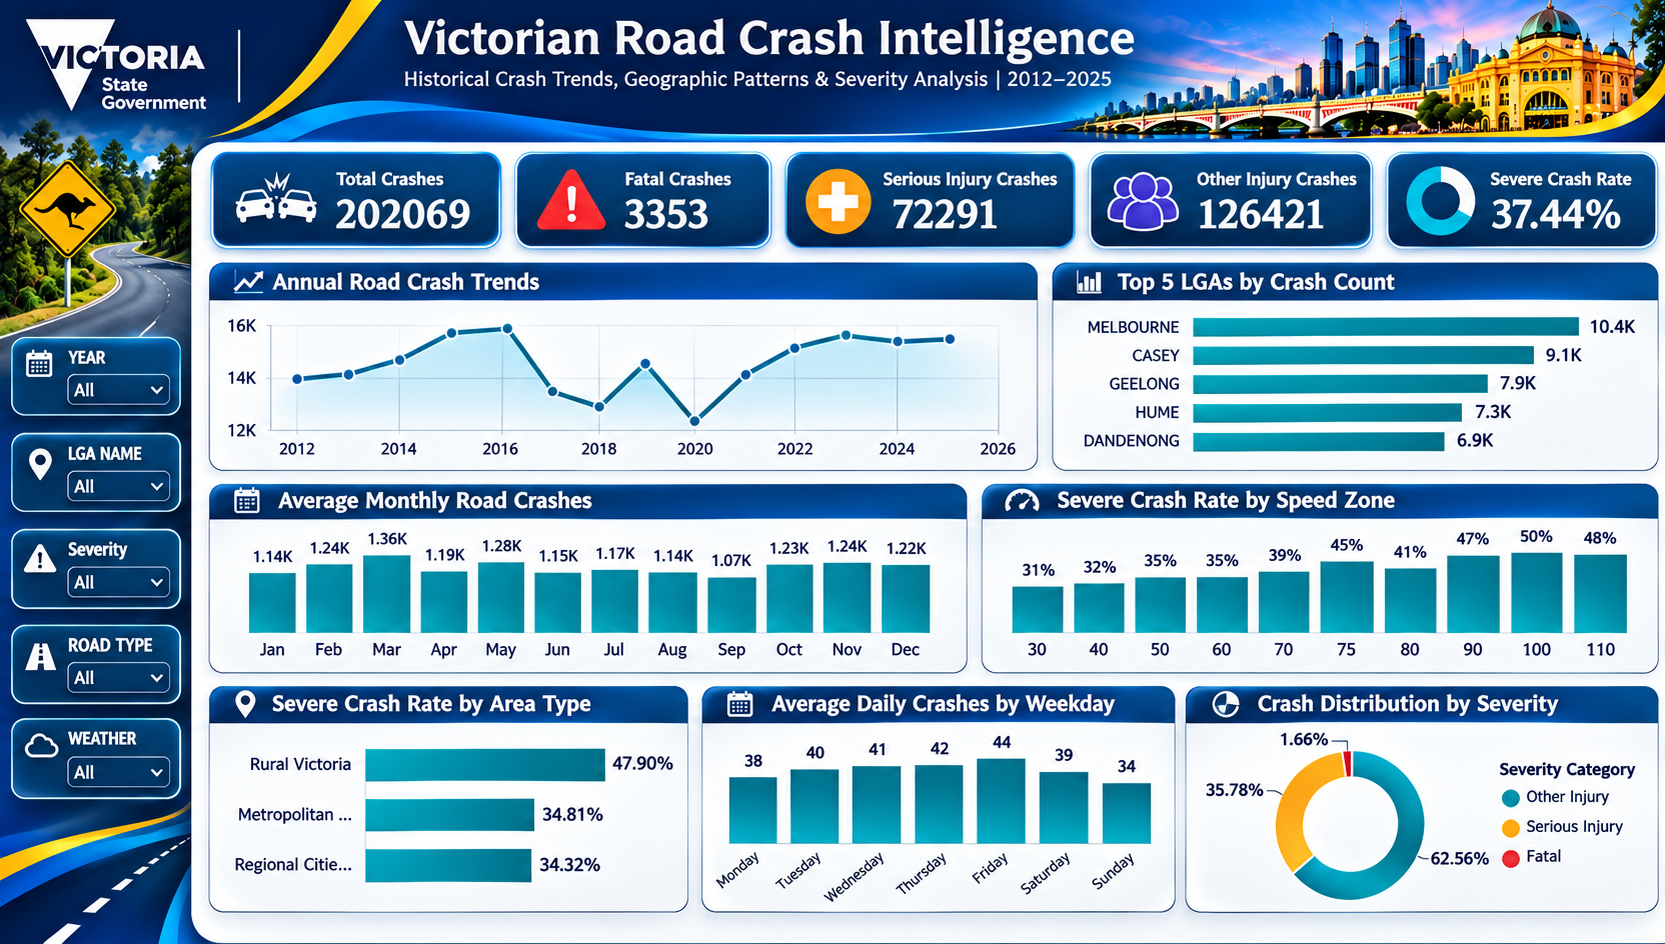

This screenshot's page, from the dashboard's own definition file:
{"tool":"powerbi","page":{"name":"Page 1","canvas":[1280,720],"ordinal":0},"visuals":[{"type":"textbox","box":[317,13.5,645.4,83.1],"z":0},{"type":"cardVisual","fields":{"Data":["Road_Crashes.Total Crashes"]},"box":[146.6,111.6,198.5,80.4],"z":1},{"type":"cardVisual","fields":{"Data":["Road_Crashes.Fatal Crashes"]},"box":[368.6,111.3,203.7,80.9],"z":2},{"type":"cardVisual","fields":{"Data":["Road_Crashes.Serious Injury Crashes"]},"box":[594.5,111.2,205.8,81.1],"z":3},{"type":"cardVisual","fields":{"Data":["Road_Crashes.Other Injury Crashes"]},"box":[843.3,111.3,203.7,80.9],"z":4},{"type":"cardVisual","fields":{"Data":["Road_Crashes.Severe Crash Rate"]},"box":[1075.3,111.6,204.9,80.4],"z":5},{"type":"lineChart","title":"Annual Road Crash Trends","fields":{"Category":["Road_Crashes.YEAR"],"Y":["Road_Crashes.Total Crashes"]},"box":[146.6,192,668,167.3],"z":6},{"type":"clusteredBarChart","title":"Top 5 LGAs by Crash Count","fields":{"Category":["Road_Crashes.LGA_NAME"],"Y":["Road_Crashes.Total Crashes"]},"box":[823.7,193.3,447.5,167.3],"z":7},{"type":"clusteredColumnChart","title":"Average Monthly Road Crashes","fields":{"Category":["Road_Crashes.Month Name"],"Y":["Road_Crashes.Average Monthly Crashes"]},"box":[146.6,365.8,609.6,158.2],"z":8},{"type":"clusteredColumnChart","title":"Average Daily Crashes by Weekday","fields":{"Category":["Road_Crashes.DAY_OF_WEEK"],"Y":["Road_Crashes.Average Daily Crashes"]},"box":[551.3,530.5,355.4,186.8],"z":9},{"type":"clusteredBarChart","title":"Severe Crash Rate by Area Type","fields":{"Category":["Road_Crashes.Area Group"],"Y":["Road_Crashes.Severe Crash Rate"]},"box":[146.6,530.5,393,186.8],"z":10},{"type":"clusteredColumnChart","title":"Severe Crash Rate by Speed Zone","fields":{"Y":["Road_Crashes.Severe Crash Rate"],"Category":["Road_Crashes.SPEED_ZONE_CLEAN"]},"box":[774.4,365.8,496.8,159.5],"z":11},{"type":"donutChart","title":"Crash Distribution by Severity","fields":{"Category":["Road_Crashes.Severity Category"],"Y":["Road_Crashes.Total Crashes"]},"box":[919.7,530.5,351.5,186.8],"z":12},{"type":"slicer","fields":{"Values":["Road_Crashes.YEAR"]},"box":[10.4,268.1,108.1,59.2],"z":13},{"type":"slicer","fields":{"Values":["Road_Crashes.LGA_NAME"]},"box":[10.4,355.4,108.1,60.3],"z":14},{"type":"slicer","fields":{"Values":["Road_Crashes.Severity Category"]},"box":[10.4,434.4,108.1,60.3],"z":15},{"type":"slicer","fields":{"Values":["Road_Crashes.ROAD_TYPE"]},"box":[10.4,523.8,108.1,59.2],"z":16},{"type":"slicer","fields":{"Values":["Road_Crashes.WEATHER_GROUP"]},"box":[10.4,609,108.1,60.3],"z":17}]}

Visuals, with their boxes in screenshot pixels (x1, y1, x2, y2), scaled from the page's 1280x720 canvas onto the 1665x944 screenshot:
textbox: bbox=[412, 18, 1252, 127]
cardVisual - Road_Crashes.Total Crashes: bbox=[191, 146, 449, 252]
cardVisual - Road_Crashes.Fatal Crashes: bbox=[479, 146, 744, 252]
cardVisual - Road_Crashes.Serious Injury Crashes: bbox=[773, 146, 1041, 252]
cardVisual - Road_Crashes.Other Injury Crashes: bbox=[1097, 146, 1362, 252]
cardVisual - Road_Crashes.Severe Crash Rate: bbox=[1399, 146, 1664, 252]
"Annual Road Crash Trends" lineChart: bbox=[191, 252, 1060, 471]
"Top 5 LGAs by Crash Count" clusteredBarChart: bbox=[1071, 253, 1654, 473]
"Average Monthly Road Crashes" clusteredColumnChart: bbox=[191, 480, 984, 687]
"Average Daily Crashes by Weekday" clusteredColumnChart: bbox=[717, 696, 1179, 940]
"Severe Crash Rate by Area Type" clusteredBarChart: bbox=[191, 696, 702, 940]
"Severe Crash Rate by Speed Zone" clusteredColumnChart: bbox=[1007, 480, 1654, 689]
"Crash Distribution by Severity" donutChart: bbox=[1196, 696, 1654, 940]
slicer - Road_Crashes.YEAR: bbox=[14, 352, 154, 429]
slicer - Road_Crashes.LGA_NAME: bbox=[14, 466, 154, 545]
slicer - Road_Crashes.Severity Category: bbox=[14, 570, 154, 649]
slicer - Road_Crashes.ROAD_TYPE: bbox=[14, 687, 154, 764]
slicer - Road_Crashes.WEATHER_GROUP: bbox=[14, 798, 154, 878]
